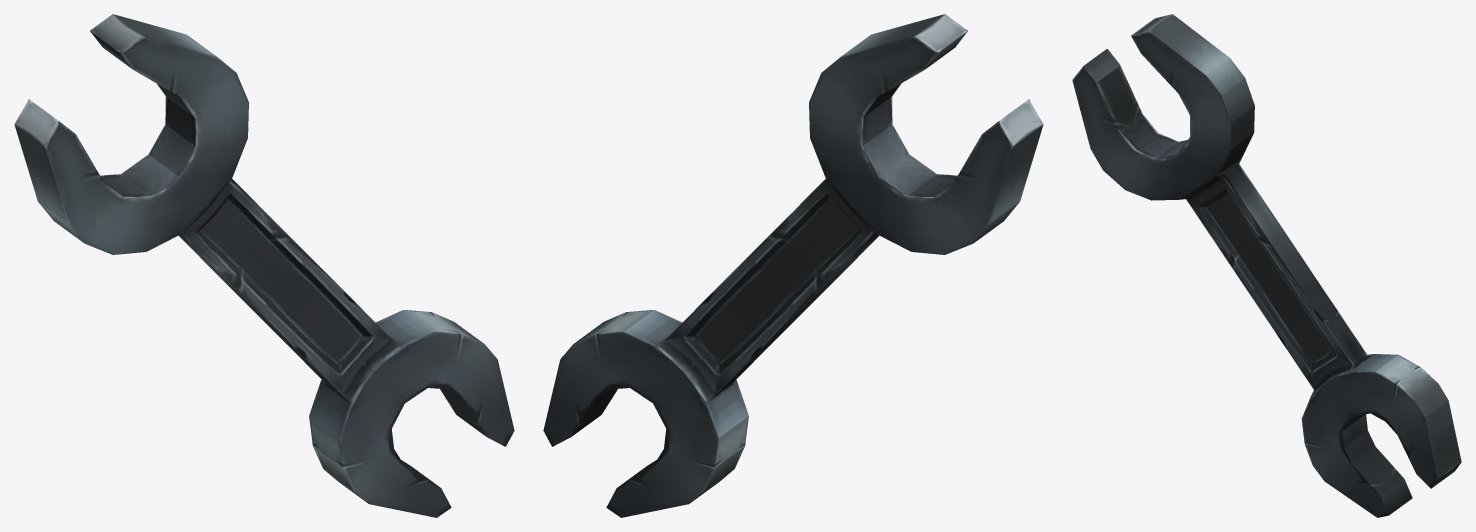
The model's file is 88_spanner.FBX.
3 views of the same model, side by side, from view 1: azimuth 30°, elevation 25°; view 2: azimuth 150°, elevation 25°; view 3: azimuth 330°, elevation 25° (orthographic). The views are drawn at different scales.
Visible parts, largest first — view 1: Box019; view 2: Box019; view 3: Box019.
Part boxes in pixels (x1,y1,x2,y2): Box019: (14,14,514,517); Box019: (543,14,1043,517); Box019: (1072,14,1461,517).
Bounding box in the file's own units: 43.13 × 48.55 × 4.86.
